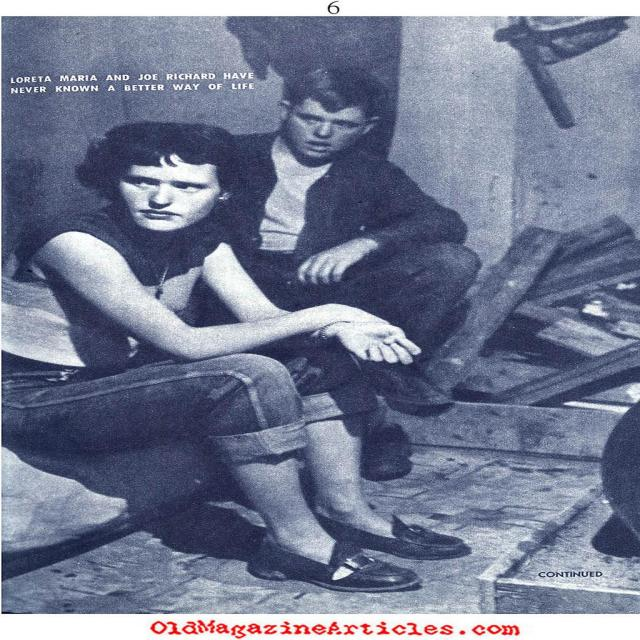nomask: (118, 152, 213, 228), (290, 98, 362, 158)
